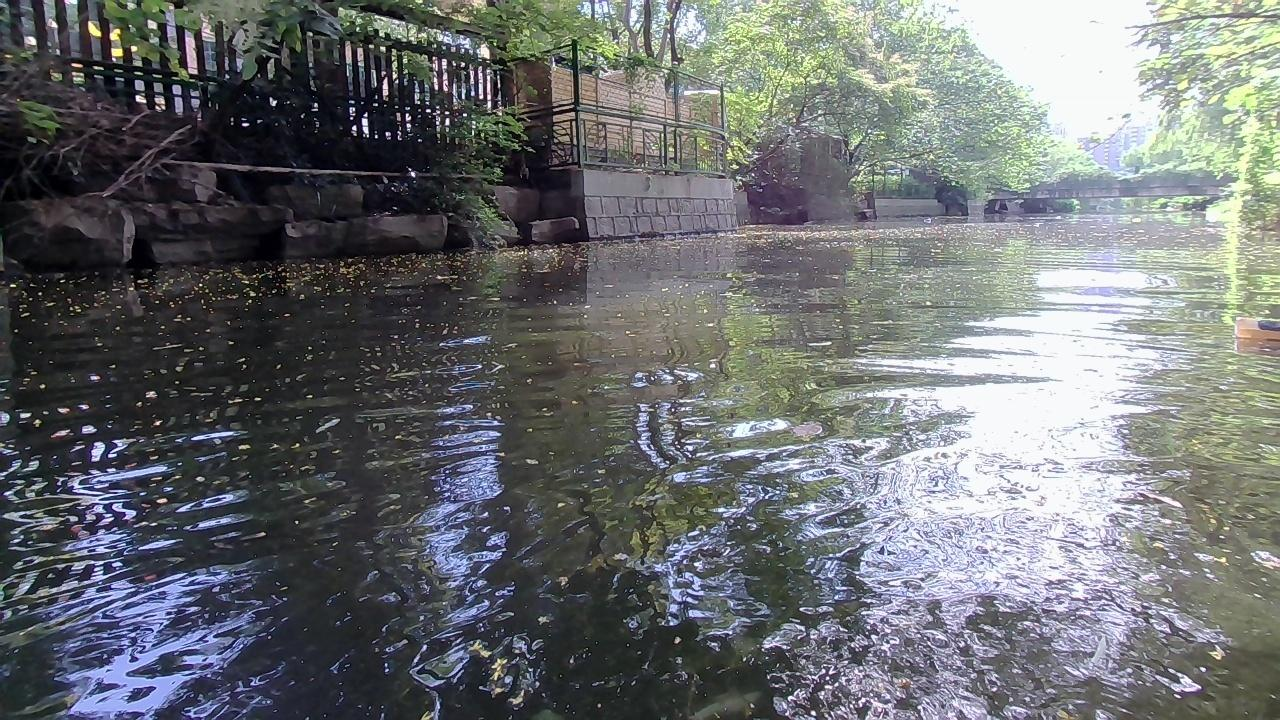bottle: (1231, 313, 1279, 339)
